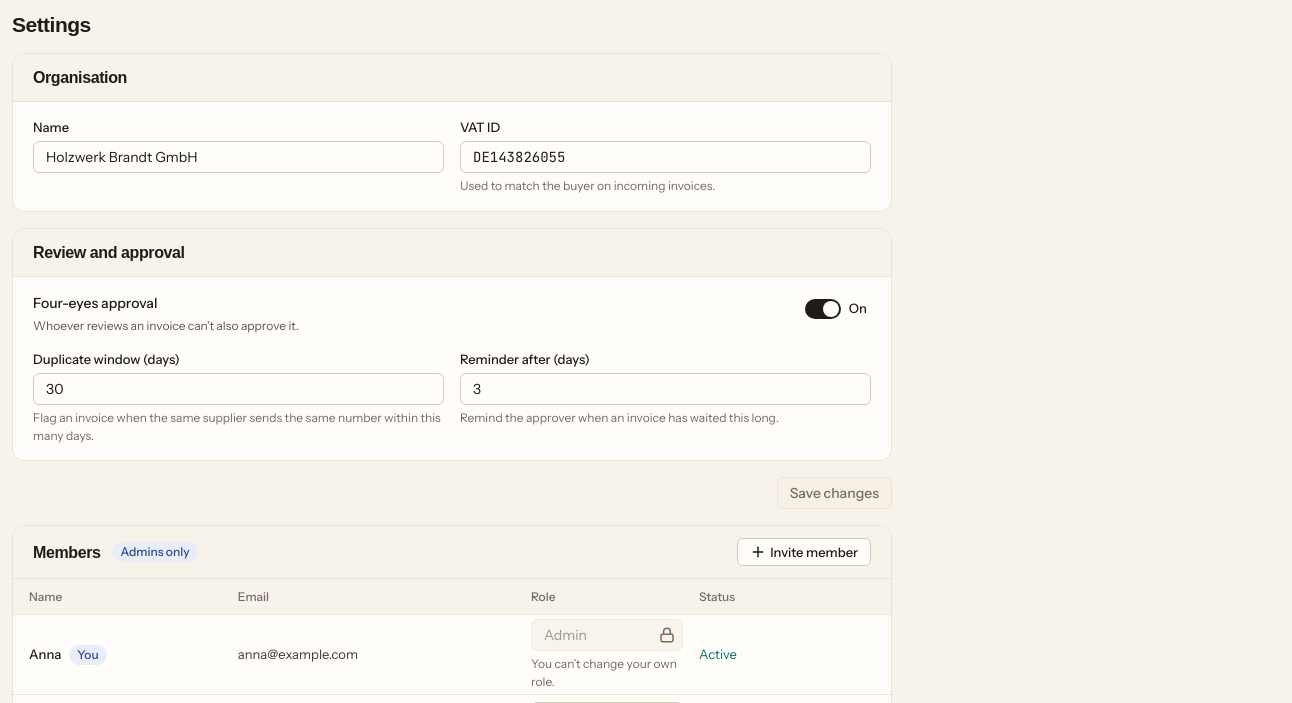
Test: SettingsView organisation form › enables Save once something changed and sends only the change
Check: the button "Save changes" is disabled, box [777,477,892,509]
Replace the text in the field labelled "Reminder after (days)" with "5": [666, 389] box [460,373,871,405]
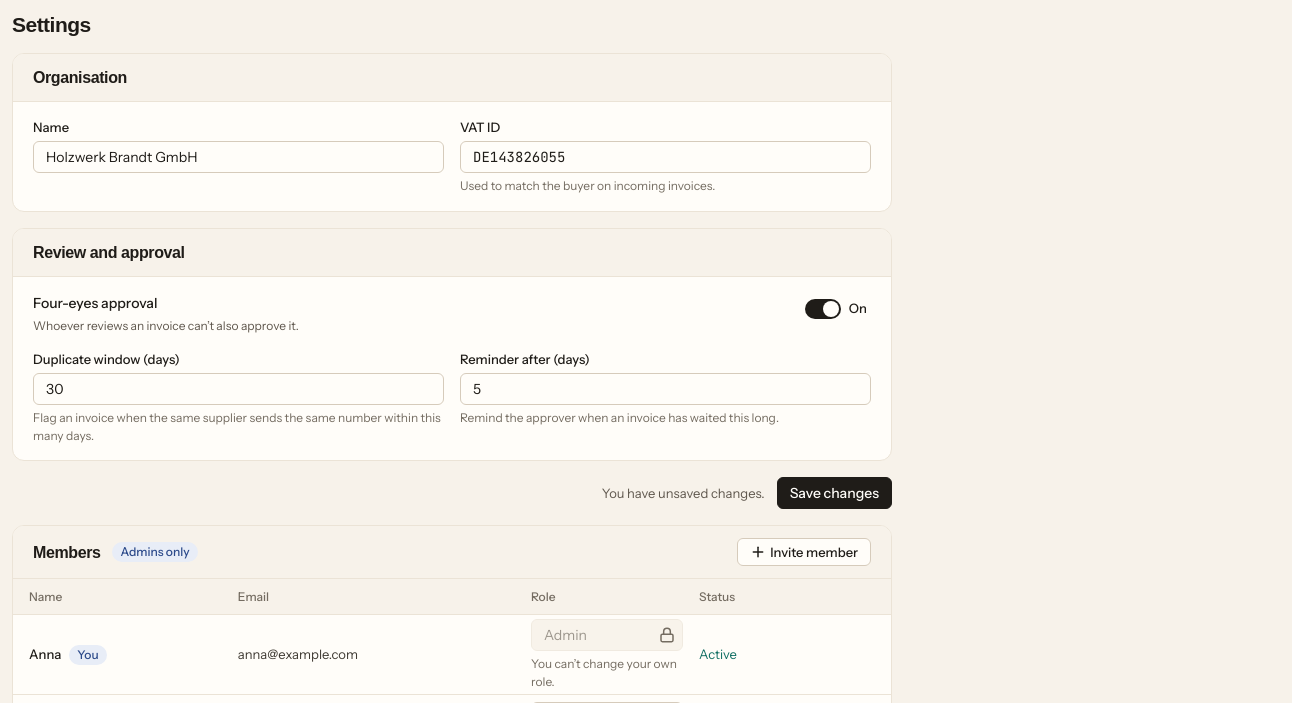
Click the switch labelled "On": [836, 309] box [801,293,871,325]
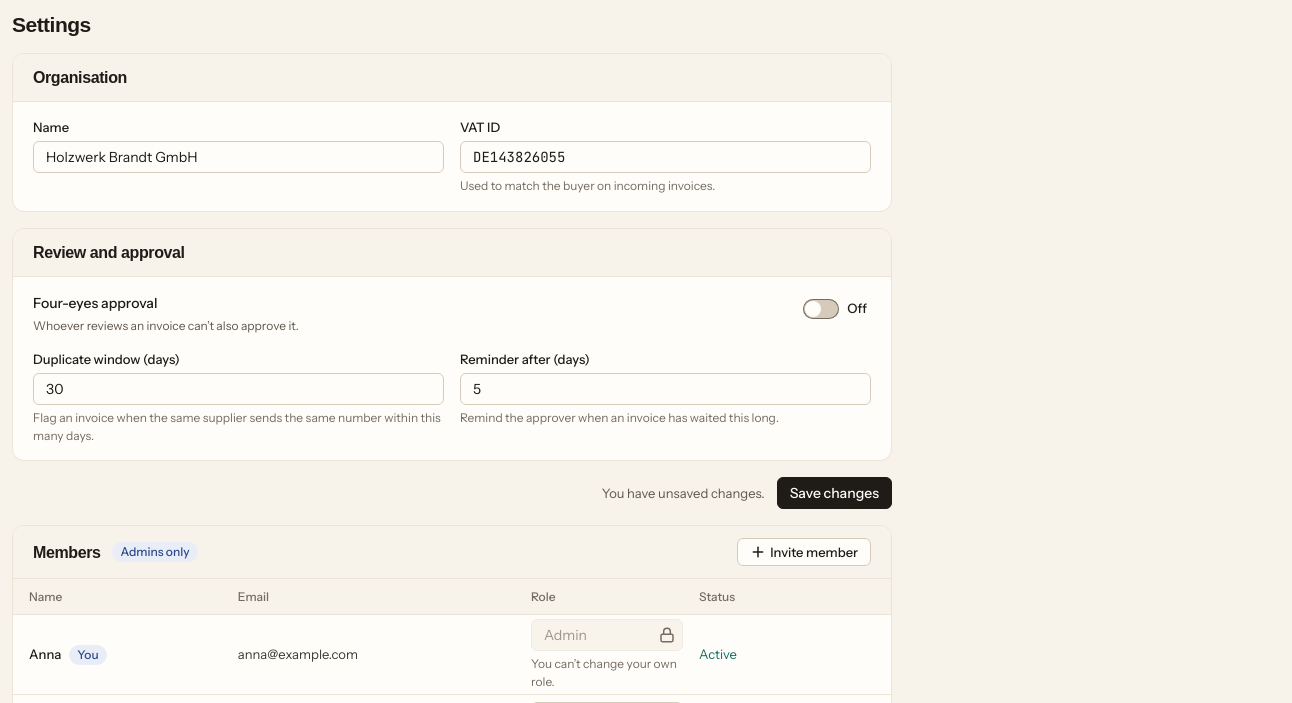
Check: the button "Save changes" is enabled
Check: the text "You have unsaved changes." is shown, box [602,484,765,502]
Click the button "Save changes": [834, 493] box [777,477,892,509]
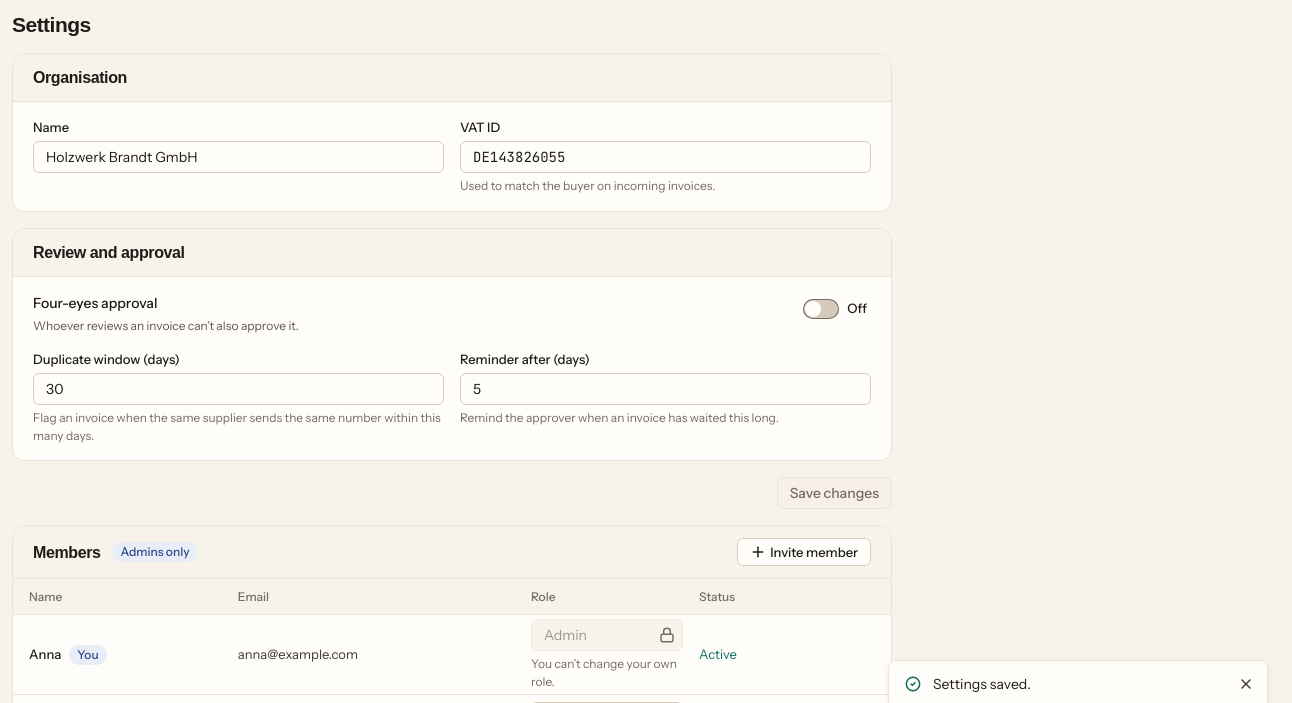
Check: the text "Settings saved." is shown, box [933,675,1031,693]
Check: the button "Save changes" is disabled, box [777,477,892,509]
